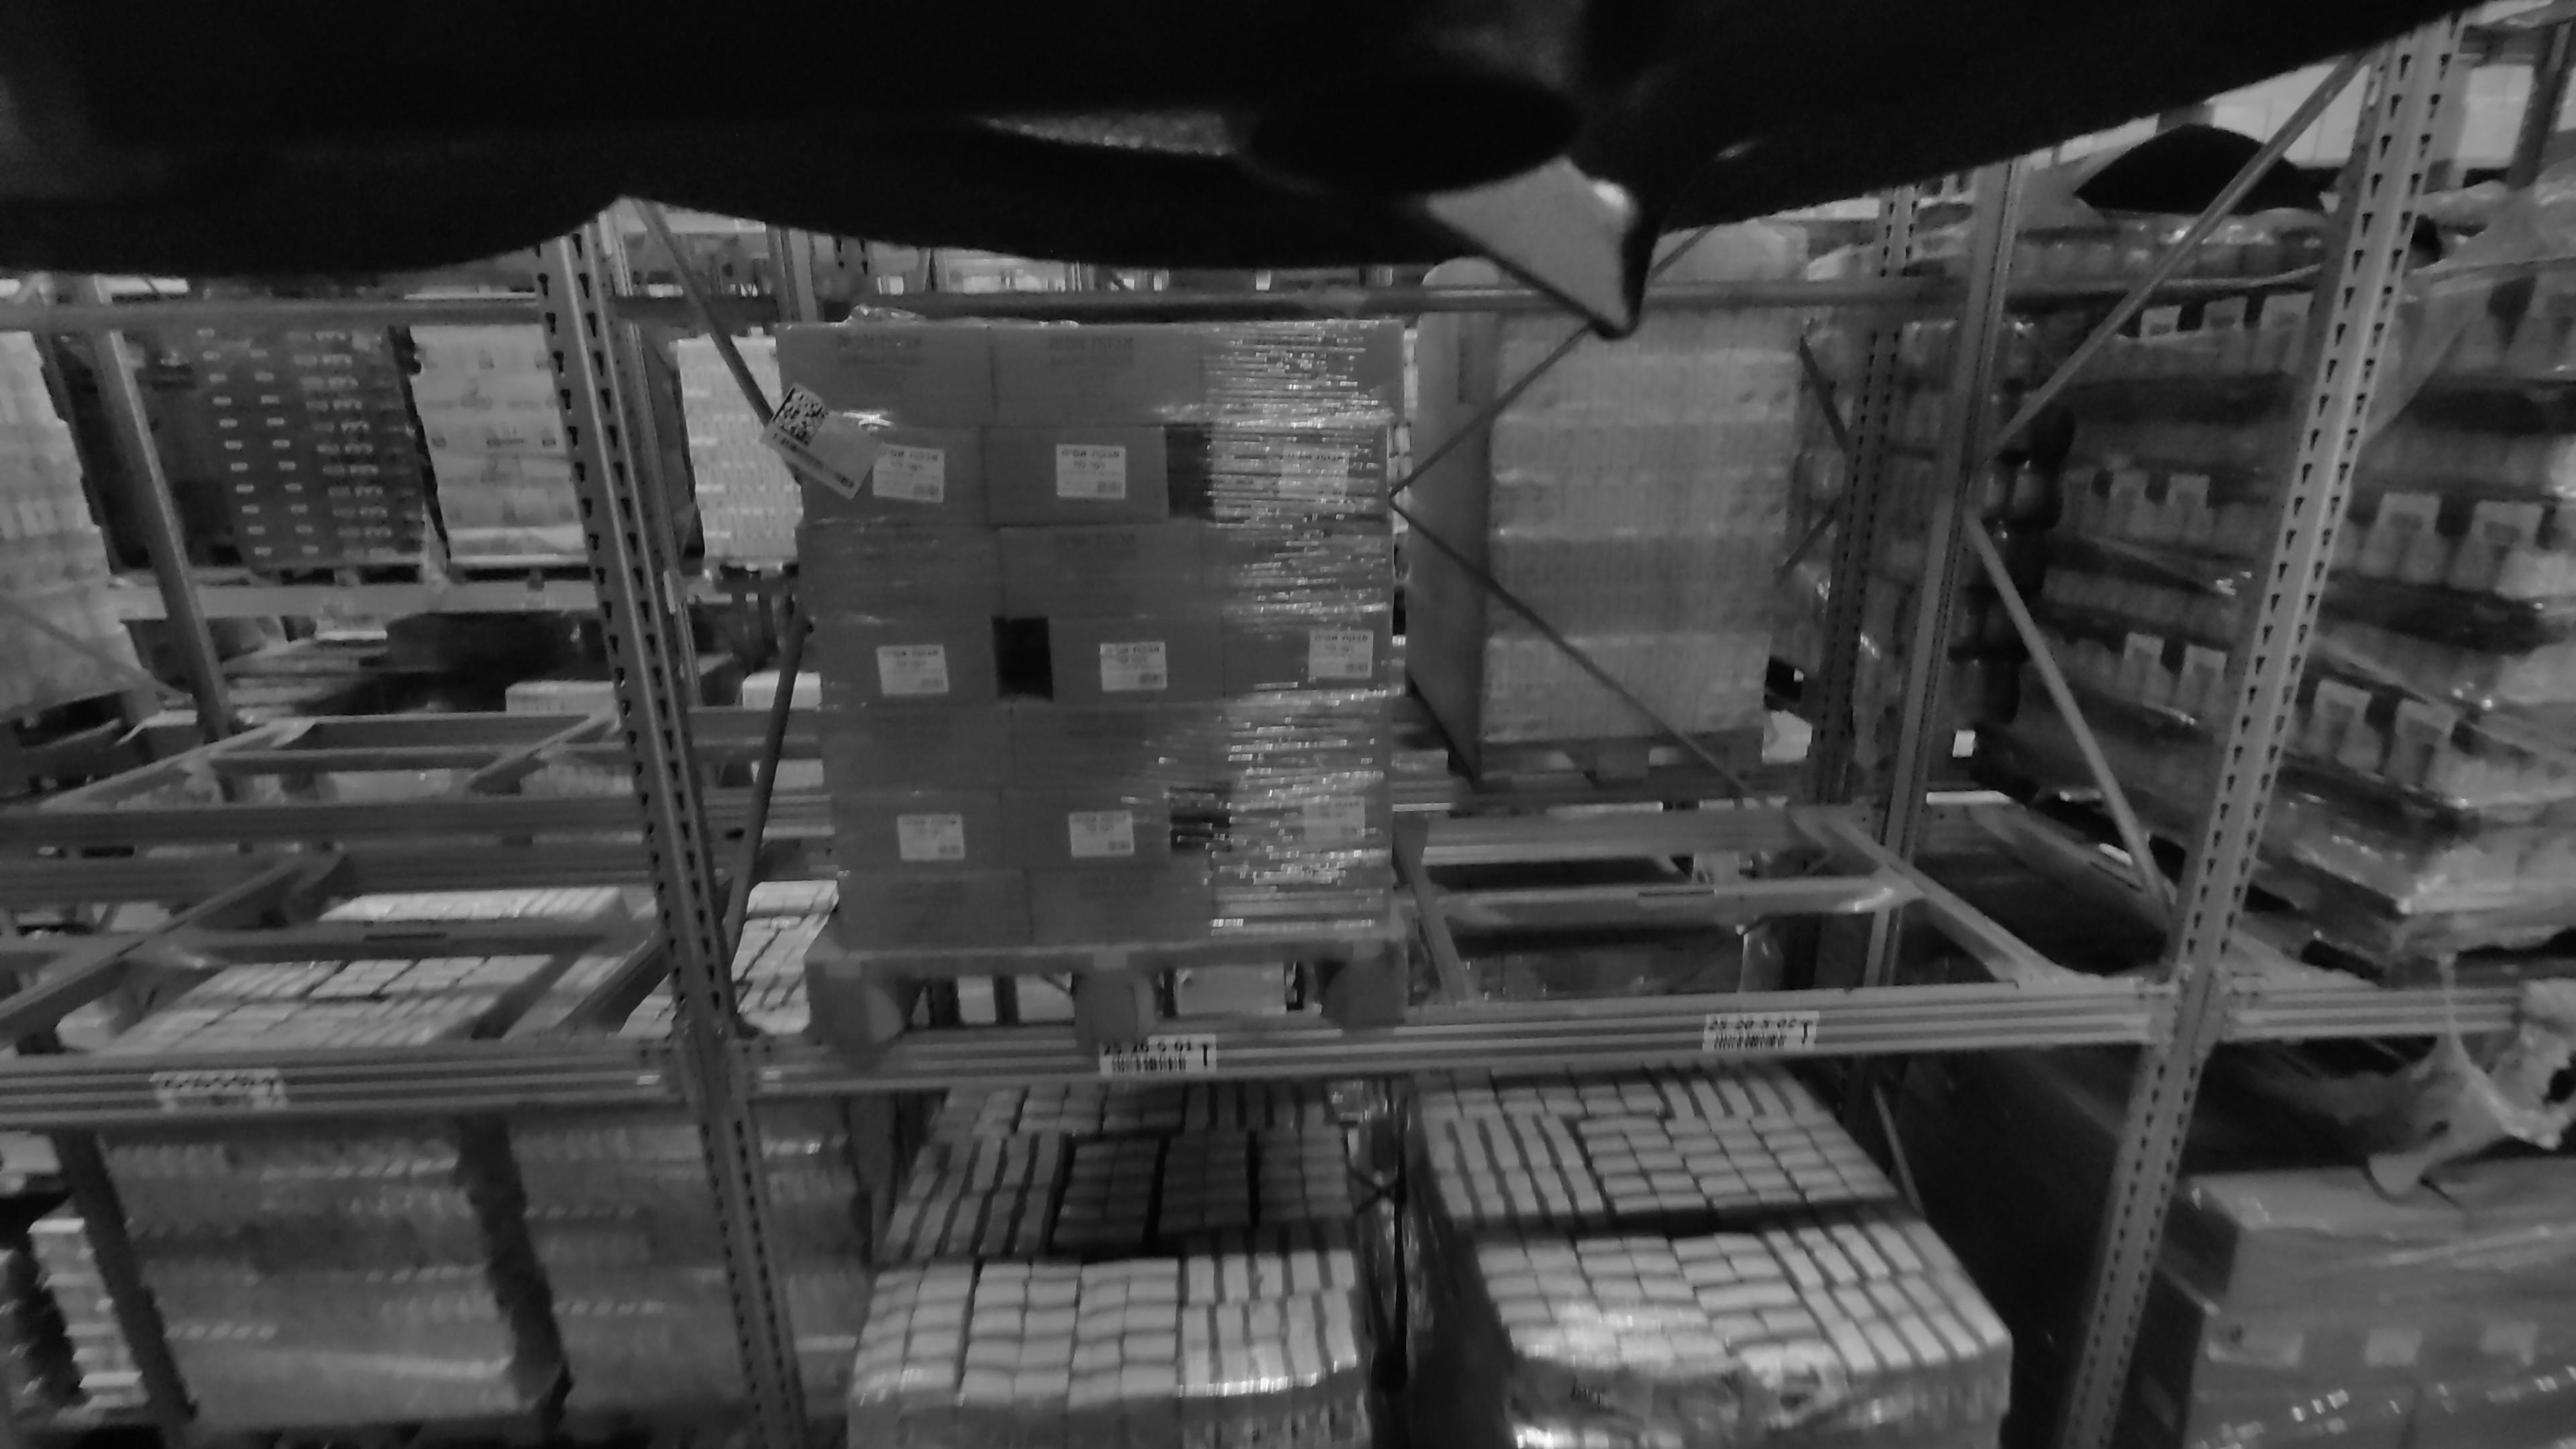empty-shelf: (35, 242, 577, 1042), (1460, 239, 2012, 993), (101, 255, 456, 803)
